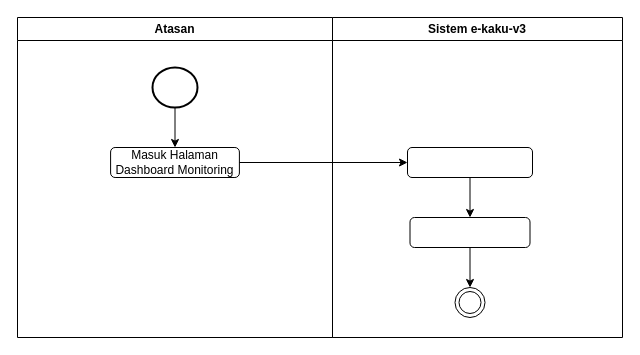
Image size: 640x355. Some labels were removed from this diagram. The centre of each missing label's shape, as x and y in pixels:
"Memuat Halaman dashboard monitoring" belongs at pixel 469 162.
"menampilkan Grafik dan dataStatistik" belongs at pixel 469 232.
